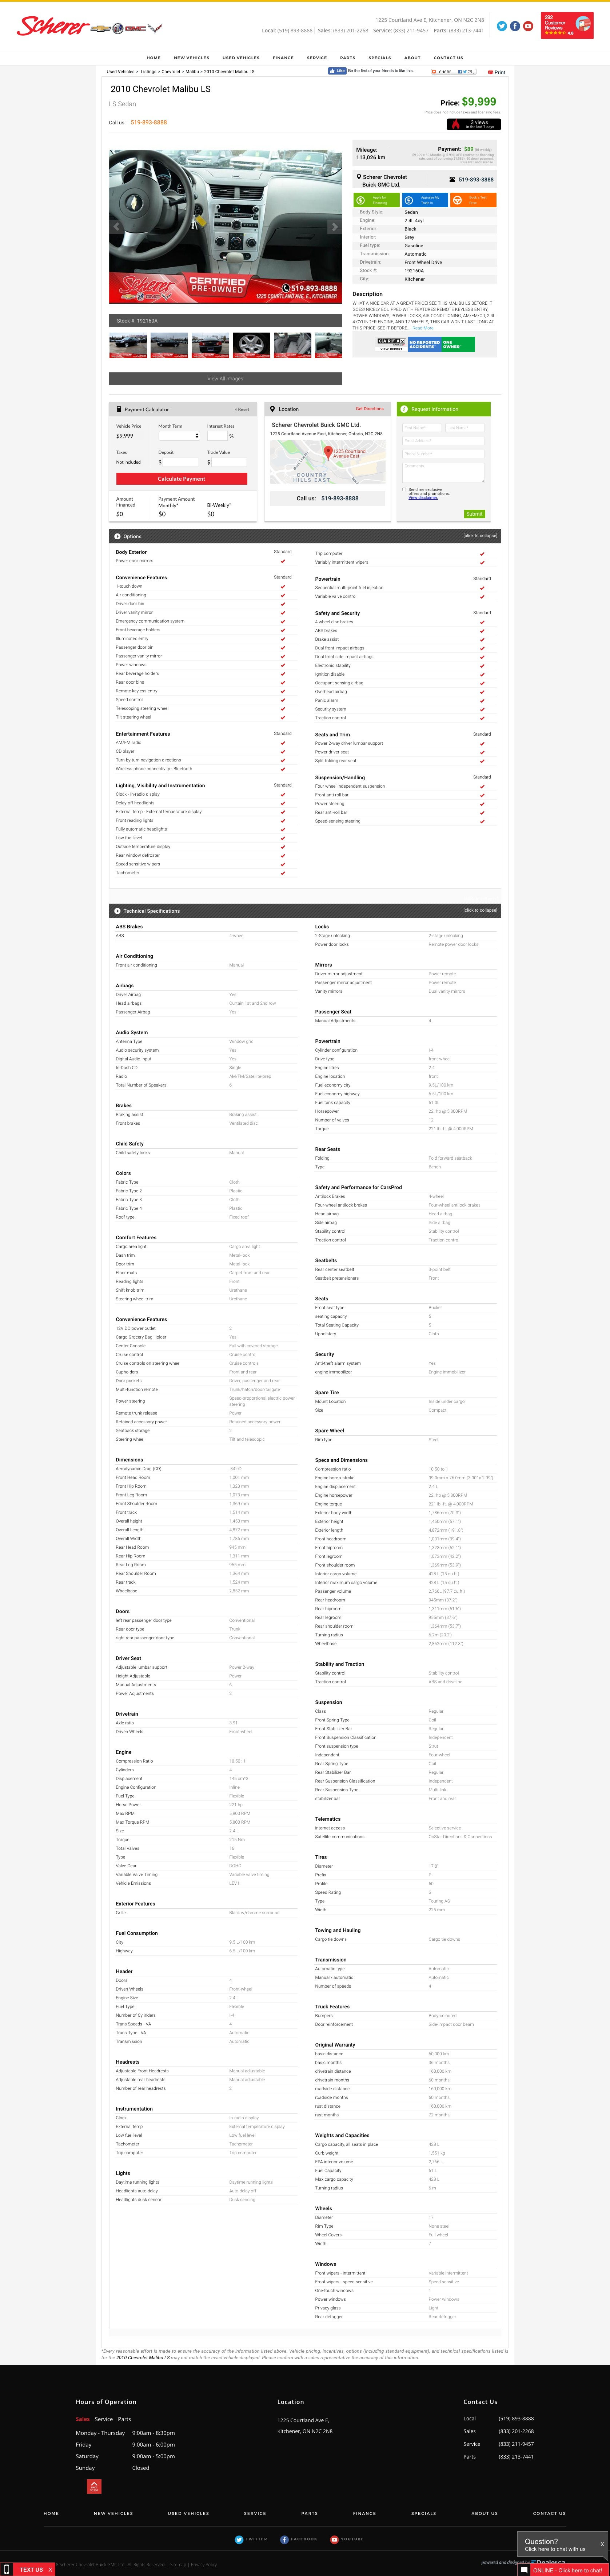car: (327, 220, 342, 235)
